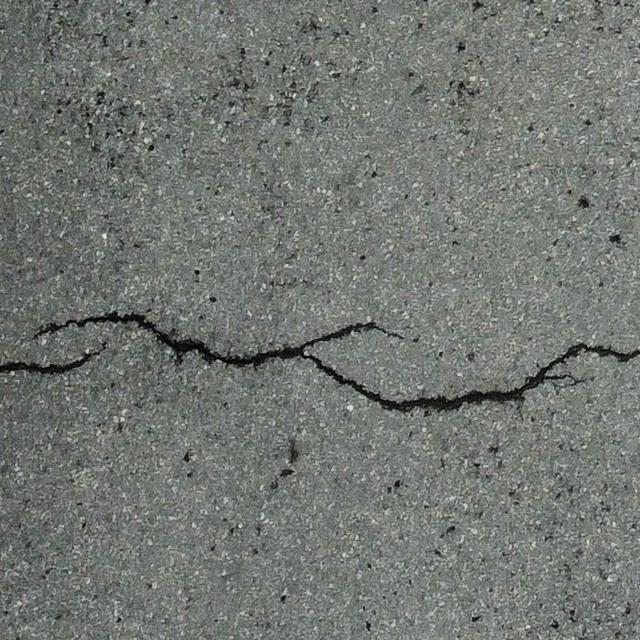TransverseCrack: (32, 309, 640, 414), (1, 343, 111, 376)
